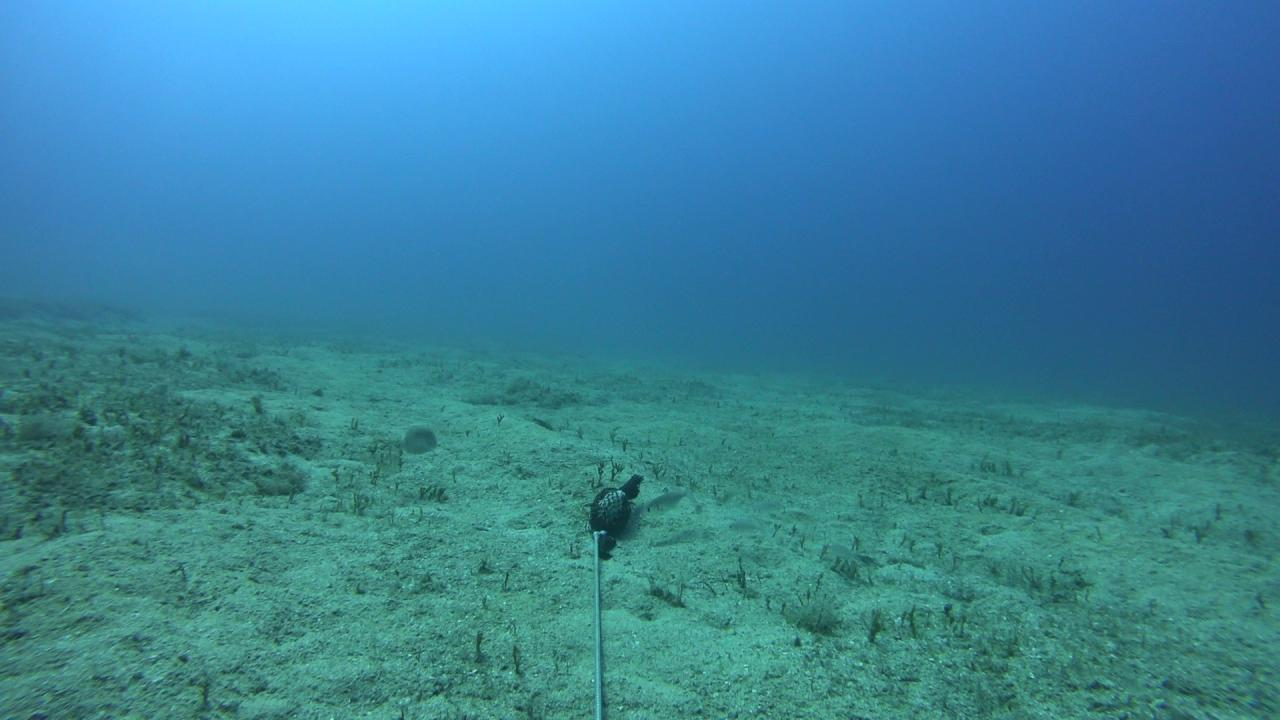pagellus: (637, 478, 698, 519), (727, 522, 768, 536)
